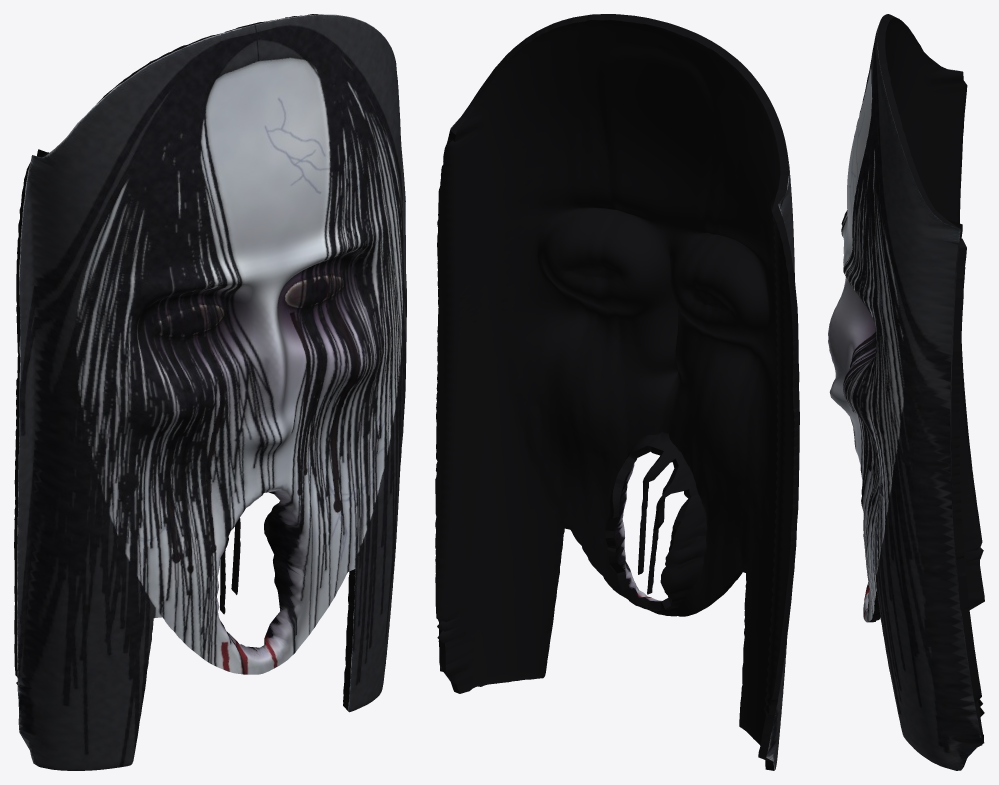
The model's file is 幽霊_yurei.glb.
The picture shows the model from 3 angles, left to right: view 1: azimuth 30°, elevation 25°; view 2: azimuth 150°, elevation 25°; view 3: azimuth 270°, elevation 25°; orthographic projection. The views are drawn at different scales.
Parts seen in each view (by area): view 1: yurei; view 2: yurei; view 3: yurei.
Part boxes in pixels (left/top/right/bottom): yurei: left=14, top=14, right=406, bottom=770; yurei: left=435, top=14, right=799, bottom=770; yurei: left=828, top=14, right=984, bottom=770.
Bounding box in the file's own units: 0.2138 × 0.3865 × 0.0837.
1 material, 1 textured.
